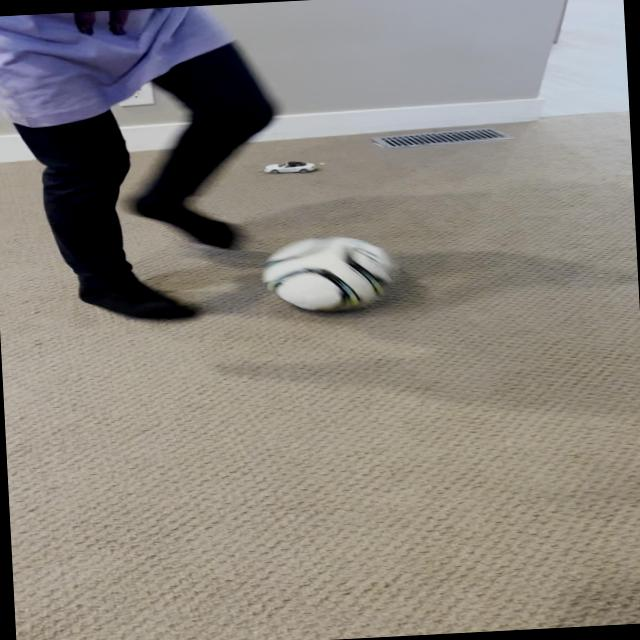Soccer Ball: (260, 232, 396, 315)
